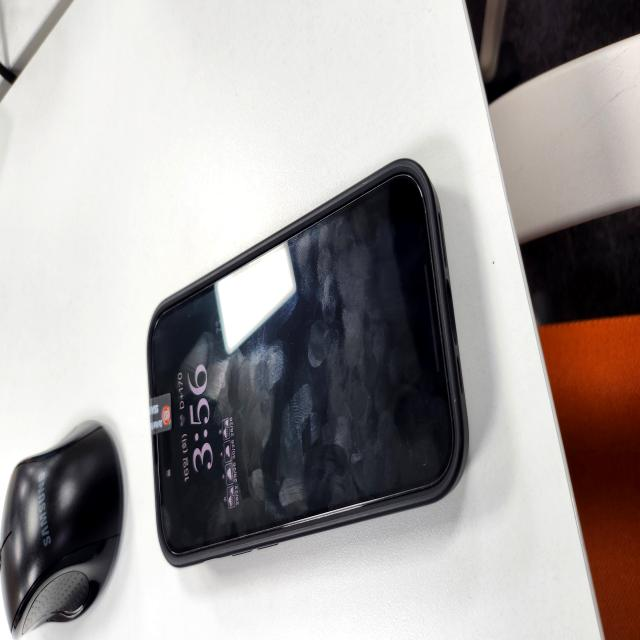phone: (148, 159, 468, 567)
sticker: (148, 390, 172, 434)
